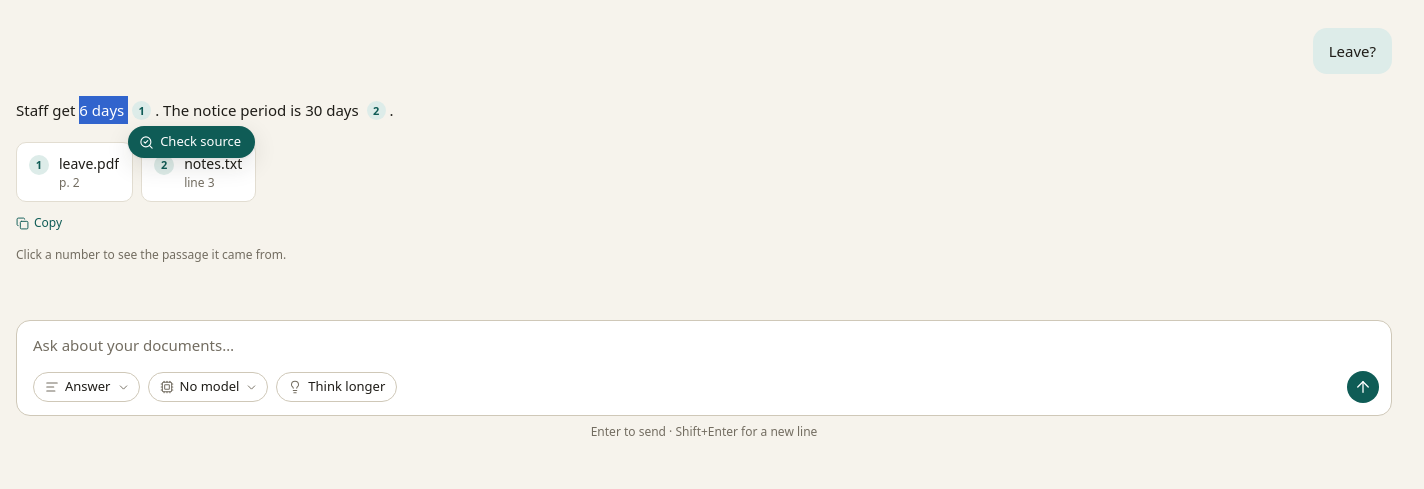
Test: checking a source from an answer › shows Check source on a selection and sends the raw text and the message id
Click the button "Check source" at coordinates (192, 142), box [128, 126, 255, 158]
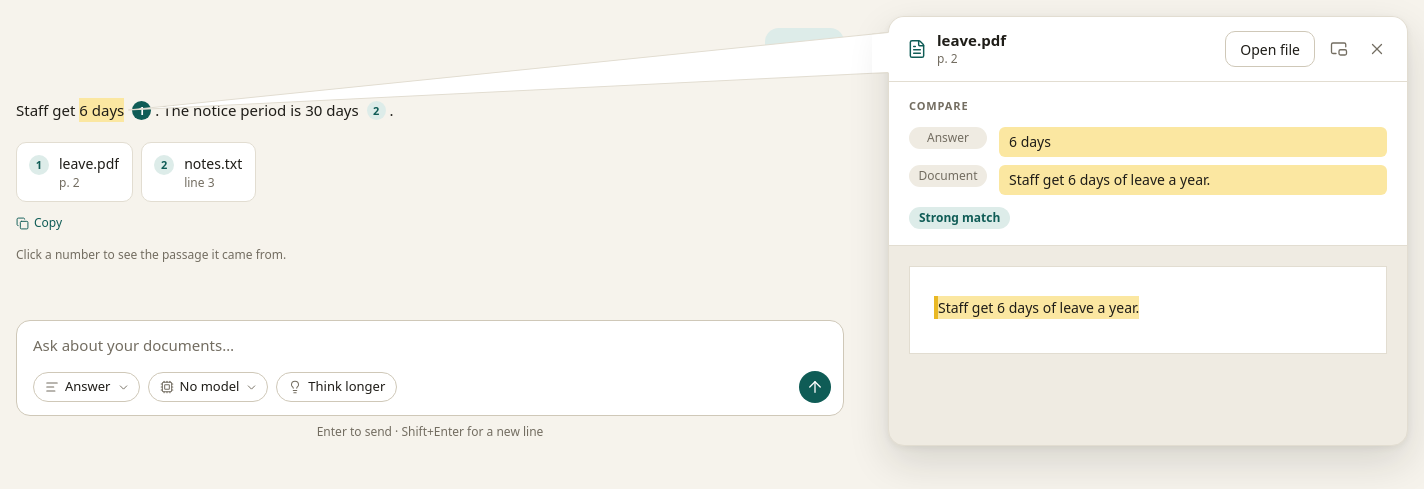
Expected: the element with class "source-panel" shows "Strong match", [919, 208, 1000, 226]
Expected: the text with class "snapshot-hit" reads "Staff get 6 days of leave a year.", [938, 298, 1139, 316]
